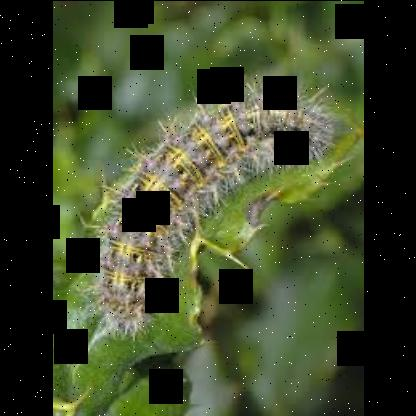oruga: (91, 80, 341, 340)
